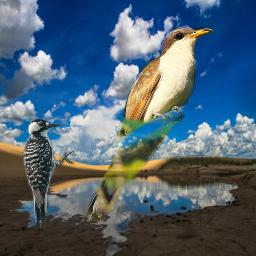Cuckoo: (82, 22, 216, 226)
Woodpecker: (21, 118, 76, 228)
